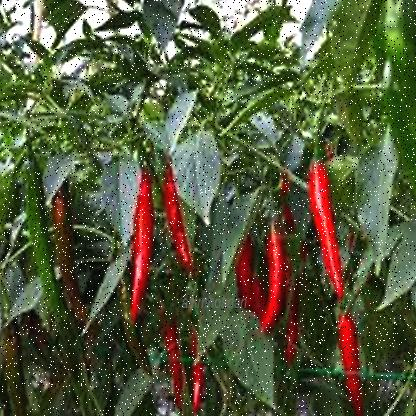chili: (298, 143, 359, 306)
